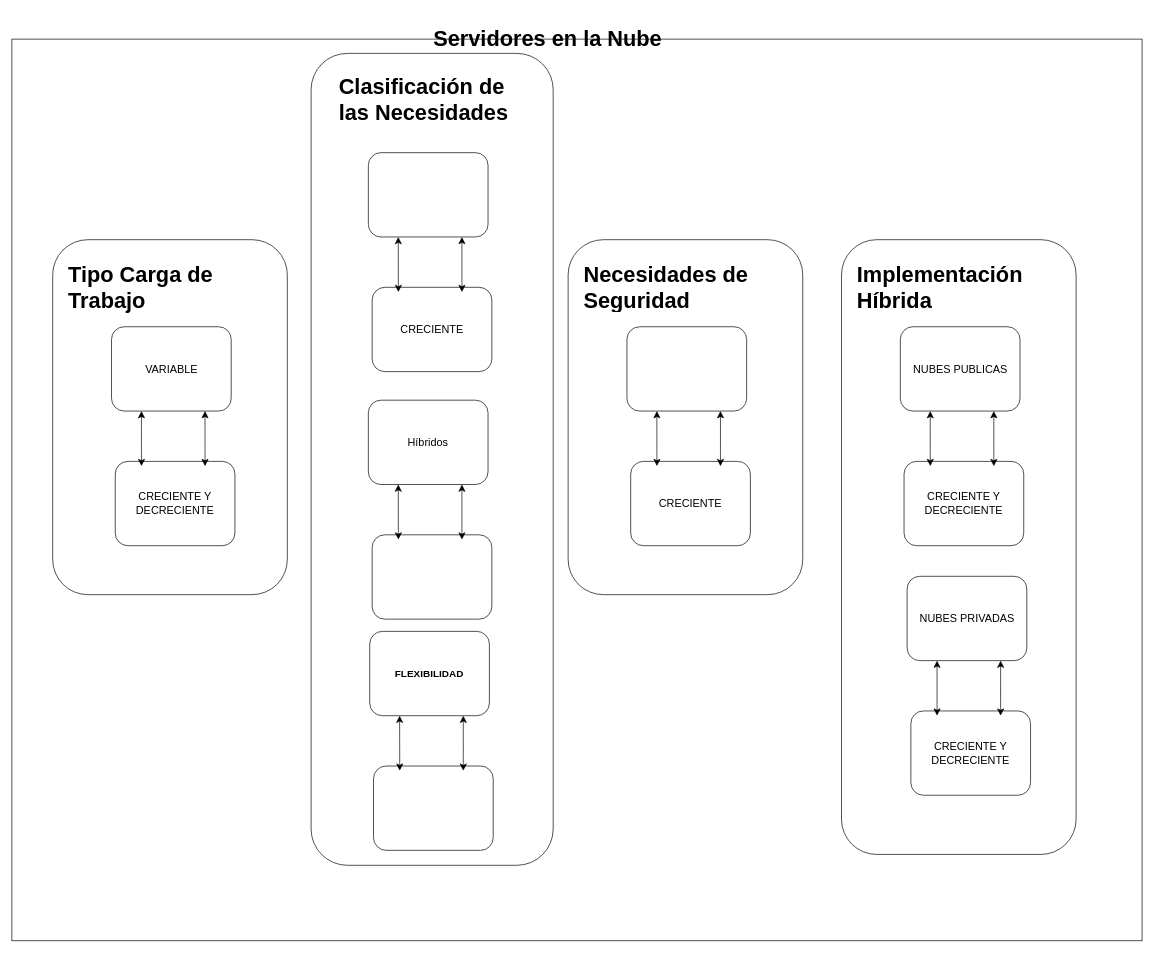
Some shapes in this 1154 by 953 pixel diagram are drawn without their labels. The box of each missing label's shape, as (x1, y1, x2, y2) in pixels:
Asequibilidad: (368, 152, 488, 237)
ENCRIPTACION DE DATOS: (626, 326, 747, 411)
